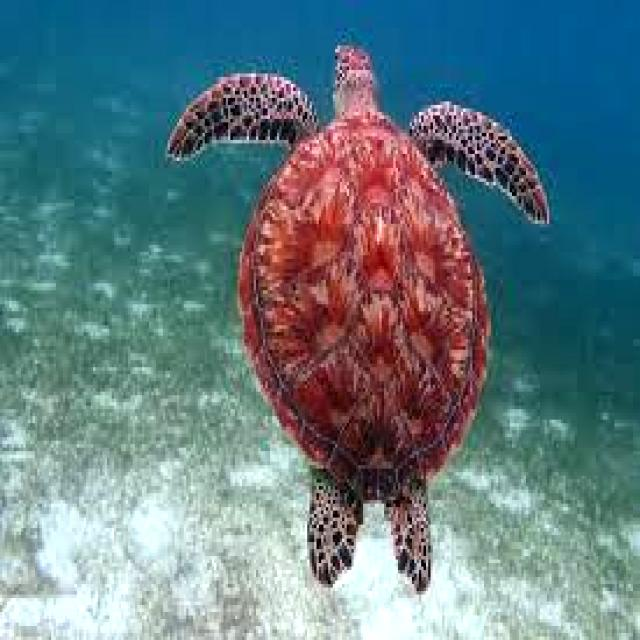Sea turtle: (158, 33, 556, 600)
